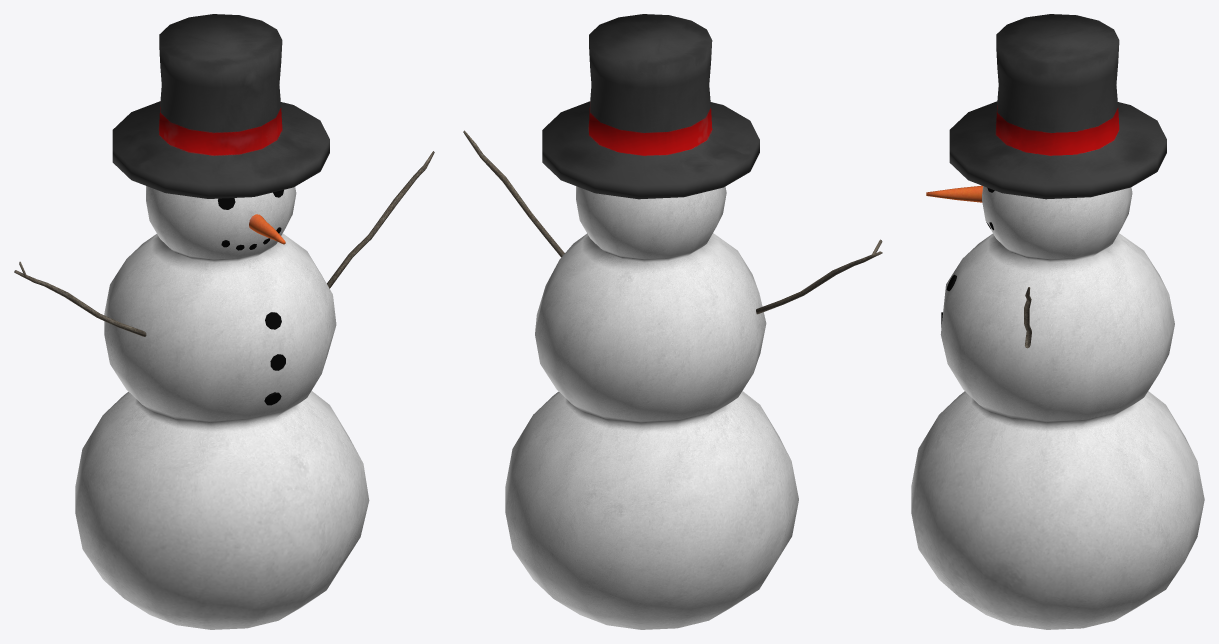
Rendered from muneco2.fbx.
3 views of the same model, side by side, from view 1: azimuth 30°, elevation 25°; view 2: azimuth 150°, elevation 25°; view 3: azimuth 270°, elevation 25° (orthographic).
Visible parts, largest first — view 1: Snowman; view 2: Snowman; view 3: Snowman.
Boxes of the visible parts, x1,y1,x2,y2 form: Snowman: (14, 14, 434, 629); Snowman: (463, 14, 882, 629); Snowman: (911, 14, 1204, 629).
Size of the model in its own units: 32.66 by 42.6 by 19.78.
Materials: 1 (1 with a texture image).
